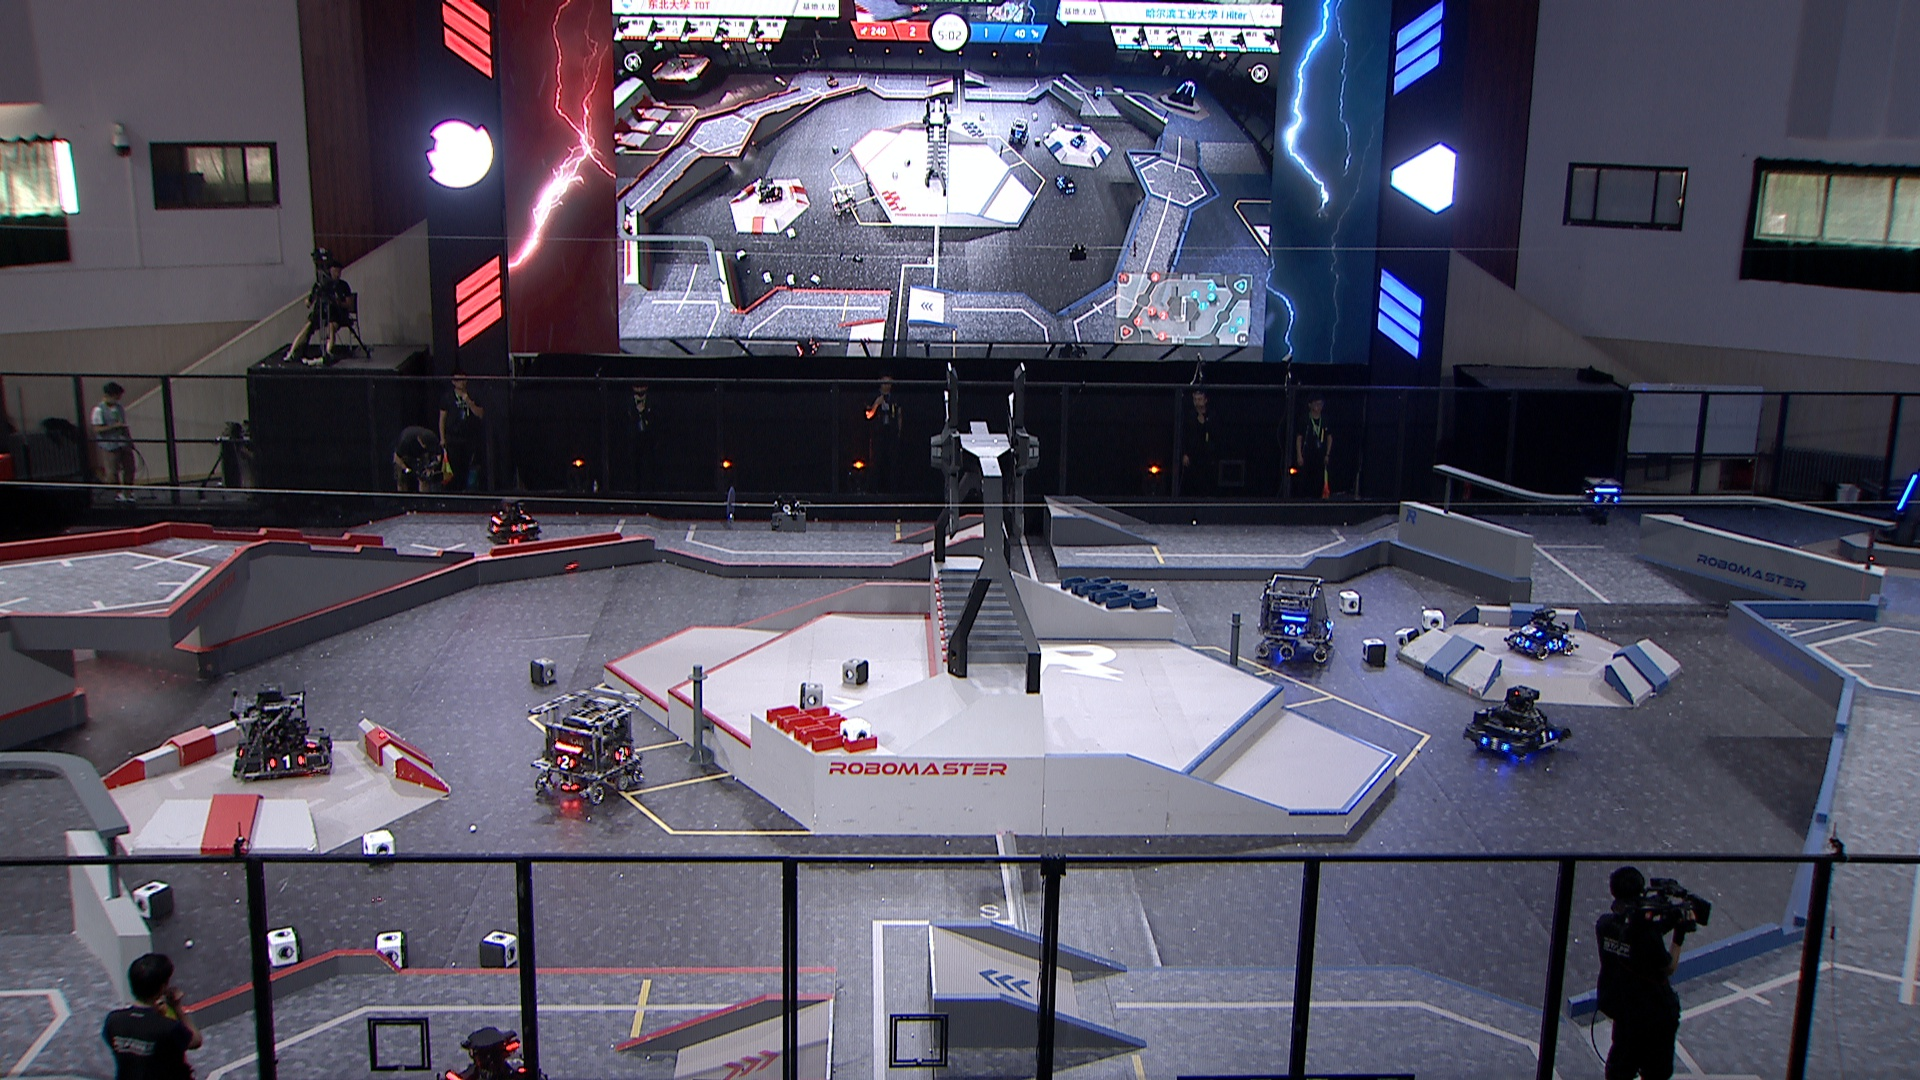armor: (1894, 469, 1920, 509), (268, 754, 305, 770), (506, 1052, 527, 1073), (1484, 736, 1509, 752), (1532, 728, 1551, 745), (1280, 621, 1302, 636), (556, 754, 574, 770), (1594, 495, 1619, 504), (305, 731, 319, 746), (615, 746, 632, 760), (320, 738, 334, 756), (1548, 637, 1565, 650), (487, 520, 500, 534), (1522, 626, 1542, 636), (512, 522, 529, 533), (1514, 637, 1531, 647), (1324, 616, 1333, 632), (520, 513, 531, 520)
base: (1869, 465, 1920, 553)
car: (527, 683, 645, 804), (225, 676, 335, 783), (1460, 680, 1571, 764), (1249, 571, 1335, 665), (429, 1027, 546, 1080), (1505, 608, 1578, 661), (484, 495, 541, 549)
ignore: (828, 183, 860, 218), (1168, 76, 1199, 107), (750, 174, 782, 202), (1007, 117, 1033, 146), (1055, 173, 1079, 195), (1069, 131, 1088, 148), (823, 71, 840, 87), (1088, 84, 1105, 98)
watcher: (1580, 472, 1629, 526)
